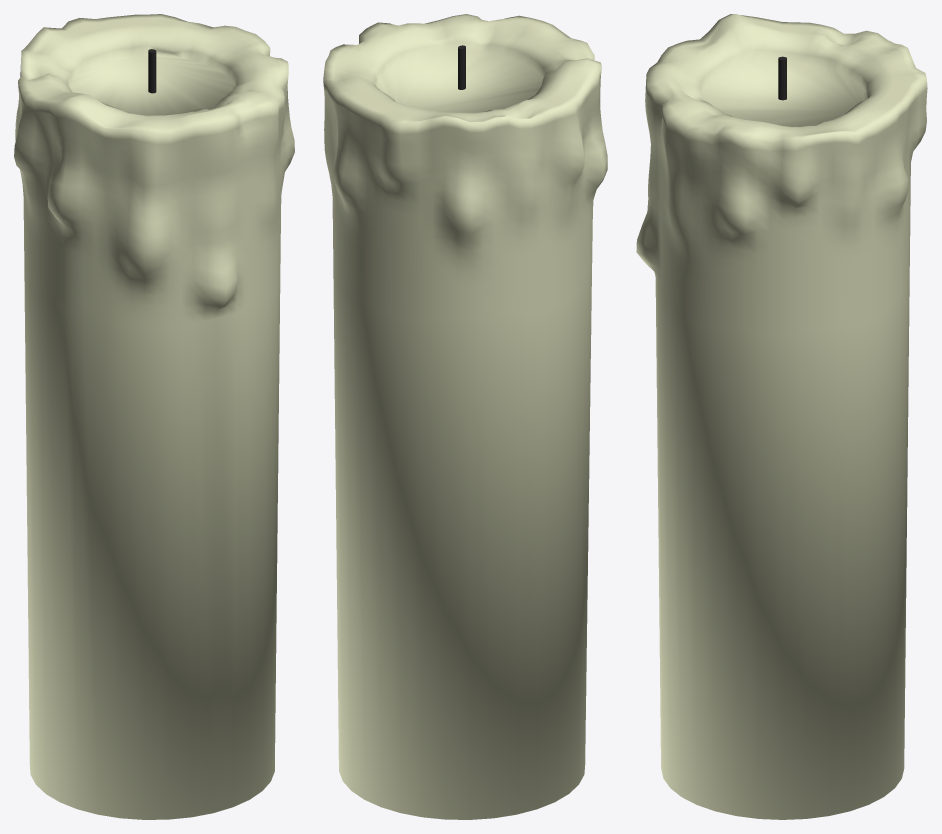
Rendered from Candle_High.fbx.
3 views of the same model, side by side, from view 1: azimuth 30°, elevation 25°; view 2: azimuth 150°, elevation 25°; view 3: azimuth 270°, elevation 25° (orthographic).
Parts seen in each view (by area): view 1: Candle; view 2: Candle; view 3: Candle.
Boxes of the visible parts, <box> form: Candle: <box>14,14,294,819</box>; Candle: <box>323,14,607,819</box>; Candle: <box>636,14,927,819</box>.
Bounding box in the file's own units: 109 × 289 × 107.
